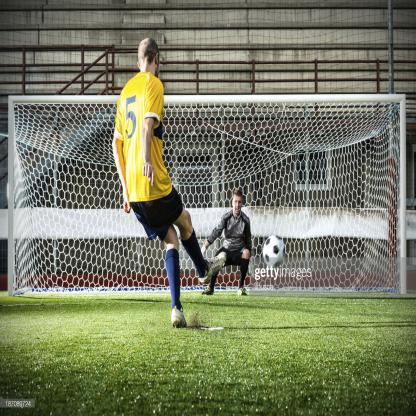penalty kick: (105, 9, 296, 369)
